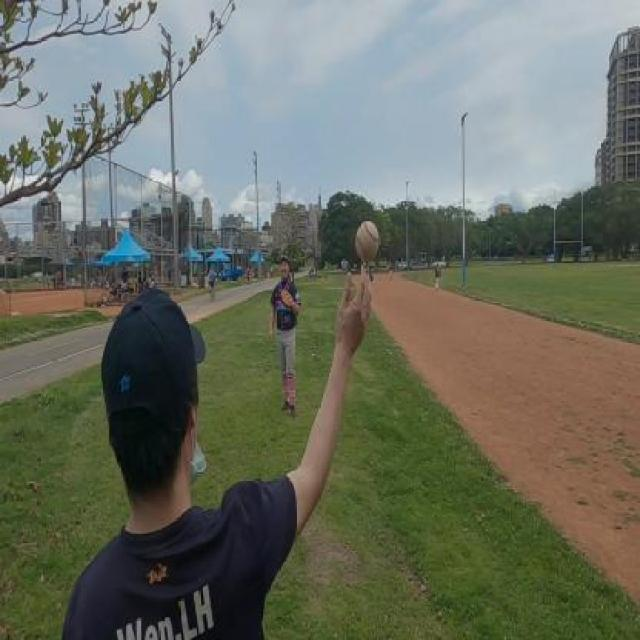sports ball: (352, 219, 382, 263)
